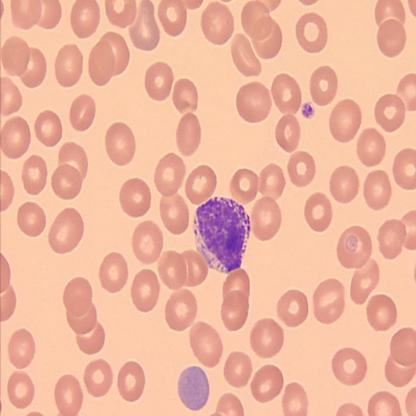Myelocyte: (194, 198, 251, 271)
